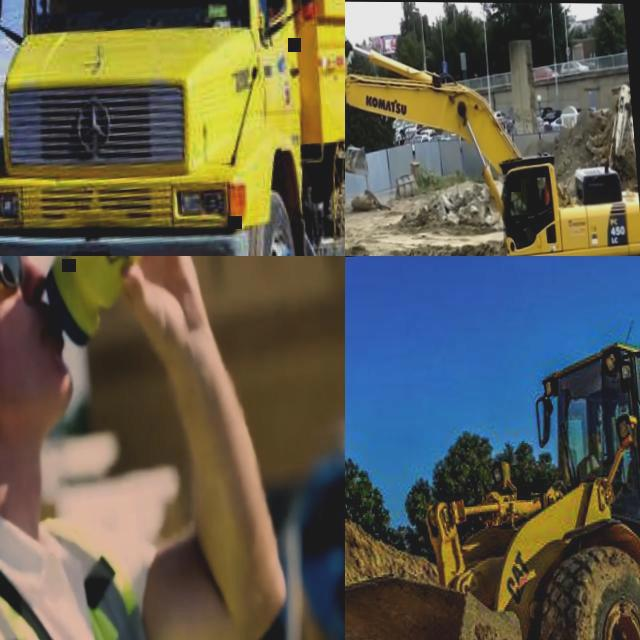machinery: (345, 306, 640, 640), (0, 0, 345, 256), (345, 11, 640, 256), (600, 78, 640, 205), (345, 138, 373, 225)
no_mask: (0, 289, 77, 440), (526, 188, 530, 196)
no_vest: (96, 0, 136, 8), (526, 194, 534, 212), (524, 181, 532, 189)
person: (0, 256, 298, 640), (510, 181, 538, 244)
vehicle: (560, 58, 588, 73), (394, 117, 414, 136), (533, 64, 558, 78), (542, 108, 562, 121), (420, 127, 438, 139), (403, 130, 420, 142), (410, 132, 429, 142), (536, 105, 553, 116), (494, 109, 507, 122), (621, 44, 628, 62), (550, 116, 562, 125), (429, 134, 444, 140)
vest: (0, 489, 167, 640)
